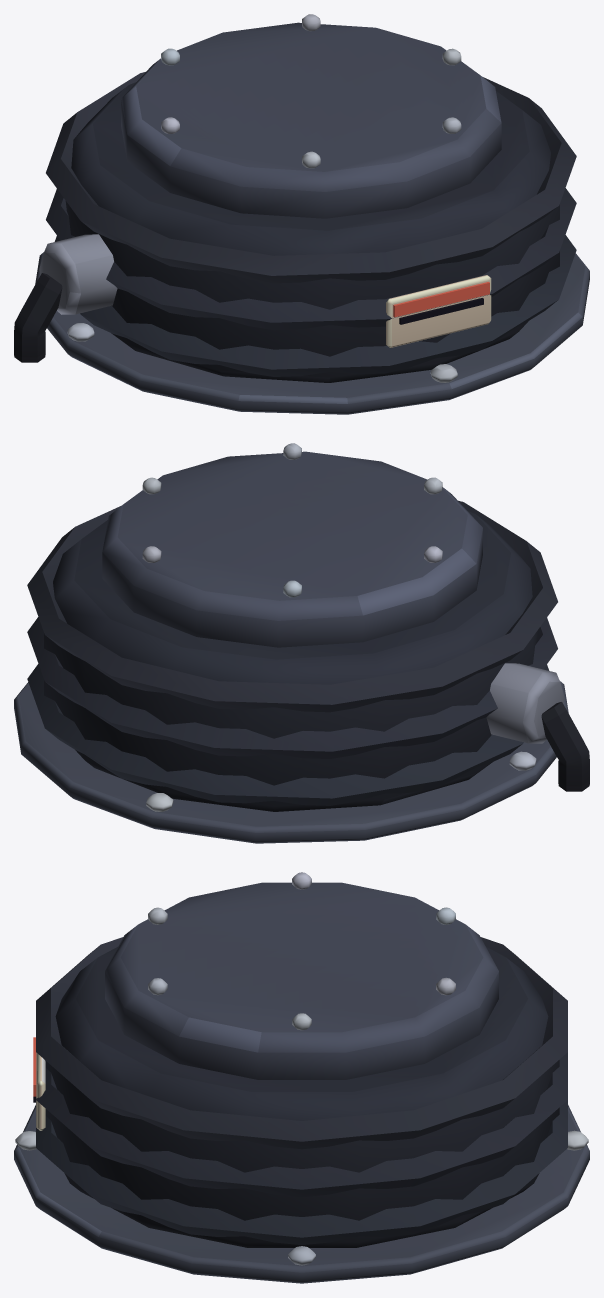
Rendered from SM_Station_EmergencyLight.fbx.
The picture shows the model from 3 angles, top to bottom: view 1: azimuth 30°, elevation 25°; view 2: azimuth 150°, elevation 25°; view 3: azimuth 270°, elevation 25°; orthographic projection. The views are drawn at different scales.
Parts seen in each view (by area): view 1: SM_Station_EmergencyLight; view 2: SM_Station_EmergencyLight; view 3: SM_Station_EmergencyLight.
Boxes of the visible parts, <box> form: SM_Station_EmergencyLight: <box>14,14,589,414</box>; SM_Station_EmergencyLight: <box>14,443,589,843</box>; SM_Station_EmergencyLight: <box>14,872,589,1283</box>.
Size of the model in its own units: 41.96 by 15.99 by 38.07.
